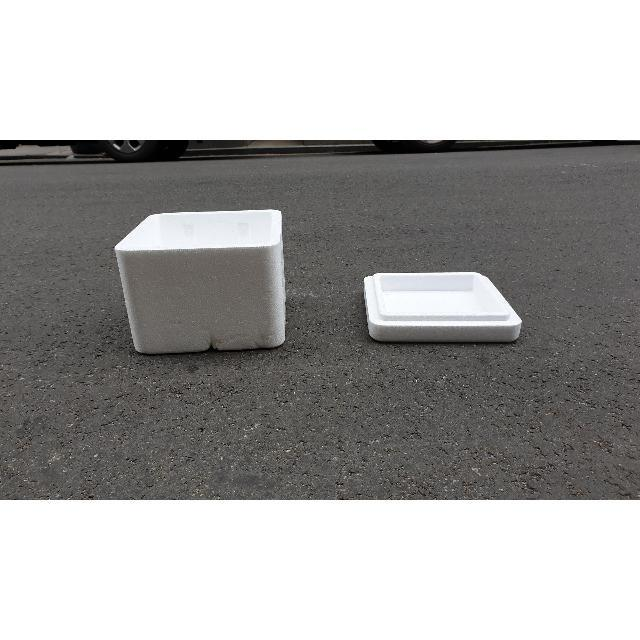Plastico descartable: (113, 209, 288, 357), (363, 272, 521, 346)
